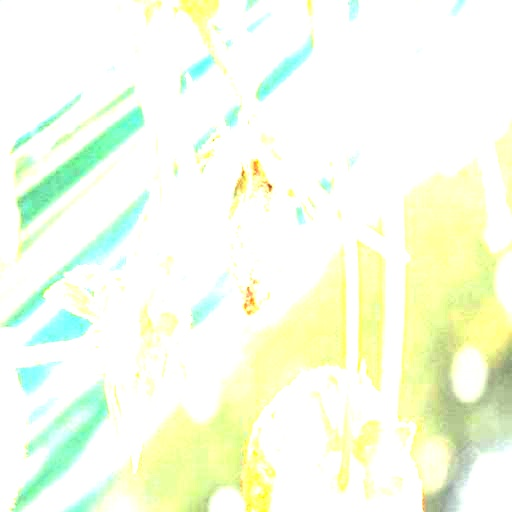Gray Mold: (198, 106, 297, 322)
